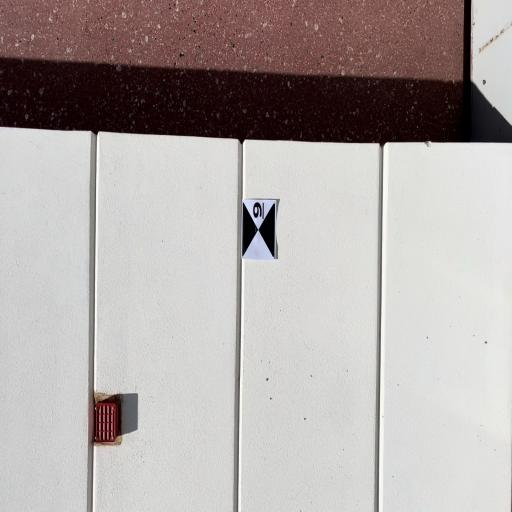target9: (242, 198, 276, 261)
